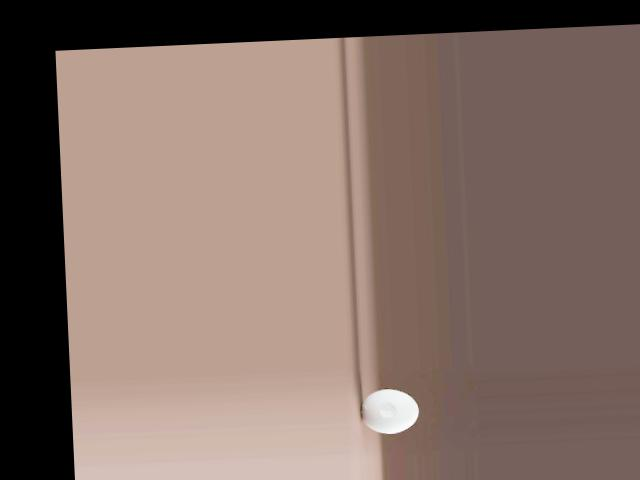egg: (360, 388, 420, 434)
